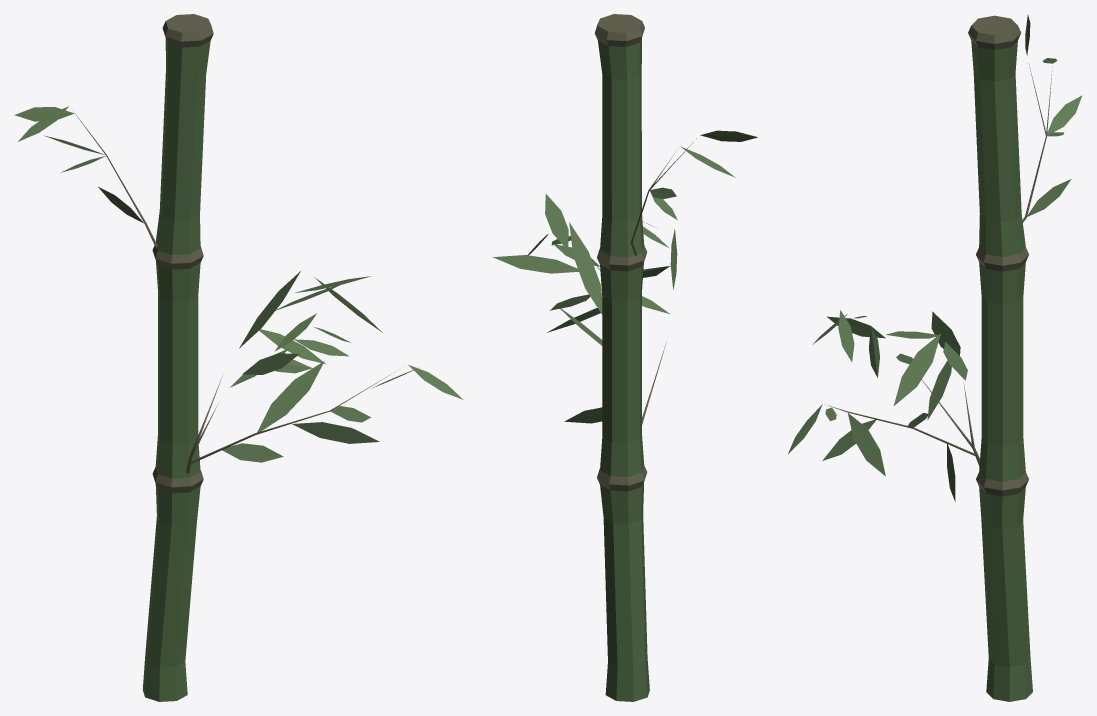
The model's file is Bamboo_01_D.fbx.
3 renders of one model, left to right at view 1: azimuth 30°, elevation 25°; view 2: azimuth 150°, elevation 25°; view 3: azimuth 270°, elevation 25°, orthographic. The views are drawn at different scales.
Visible parts, largest first — view 1: Bamboo_01_D; view 2: Bamboo_01_D; view 3: Bamboo_01_D.
Part boxes in pixels (left/top/right/bottom): Bamboo_01_D: left=14, top=14, right=463, bottom=701; Bamboo_01_D: left=492, top=14, right=757, bottom=701; Bamboo_01_D: left=788, top=14, right=1082, bottom=701.
Bounding box in the file's own units: 40.34 × 78.38 × 31.09.
